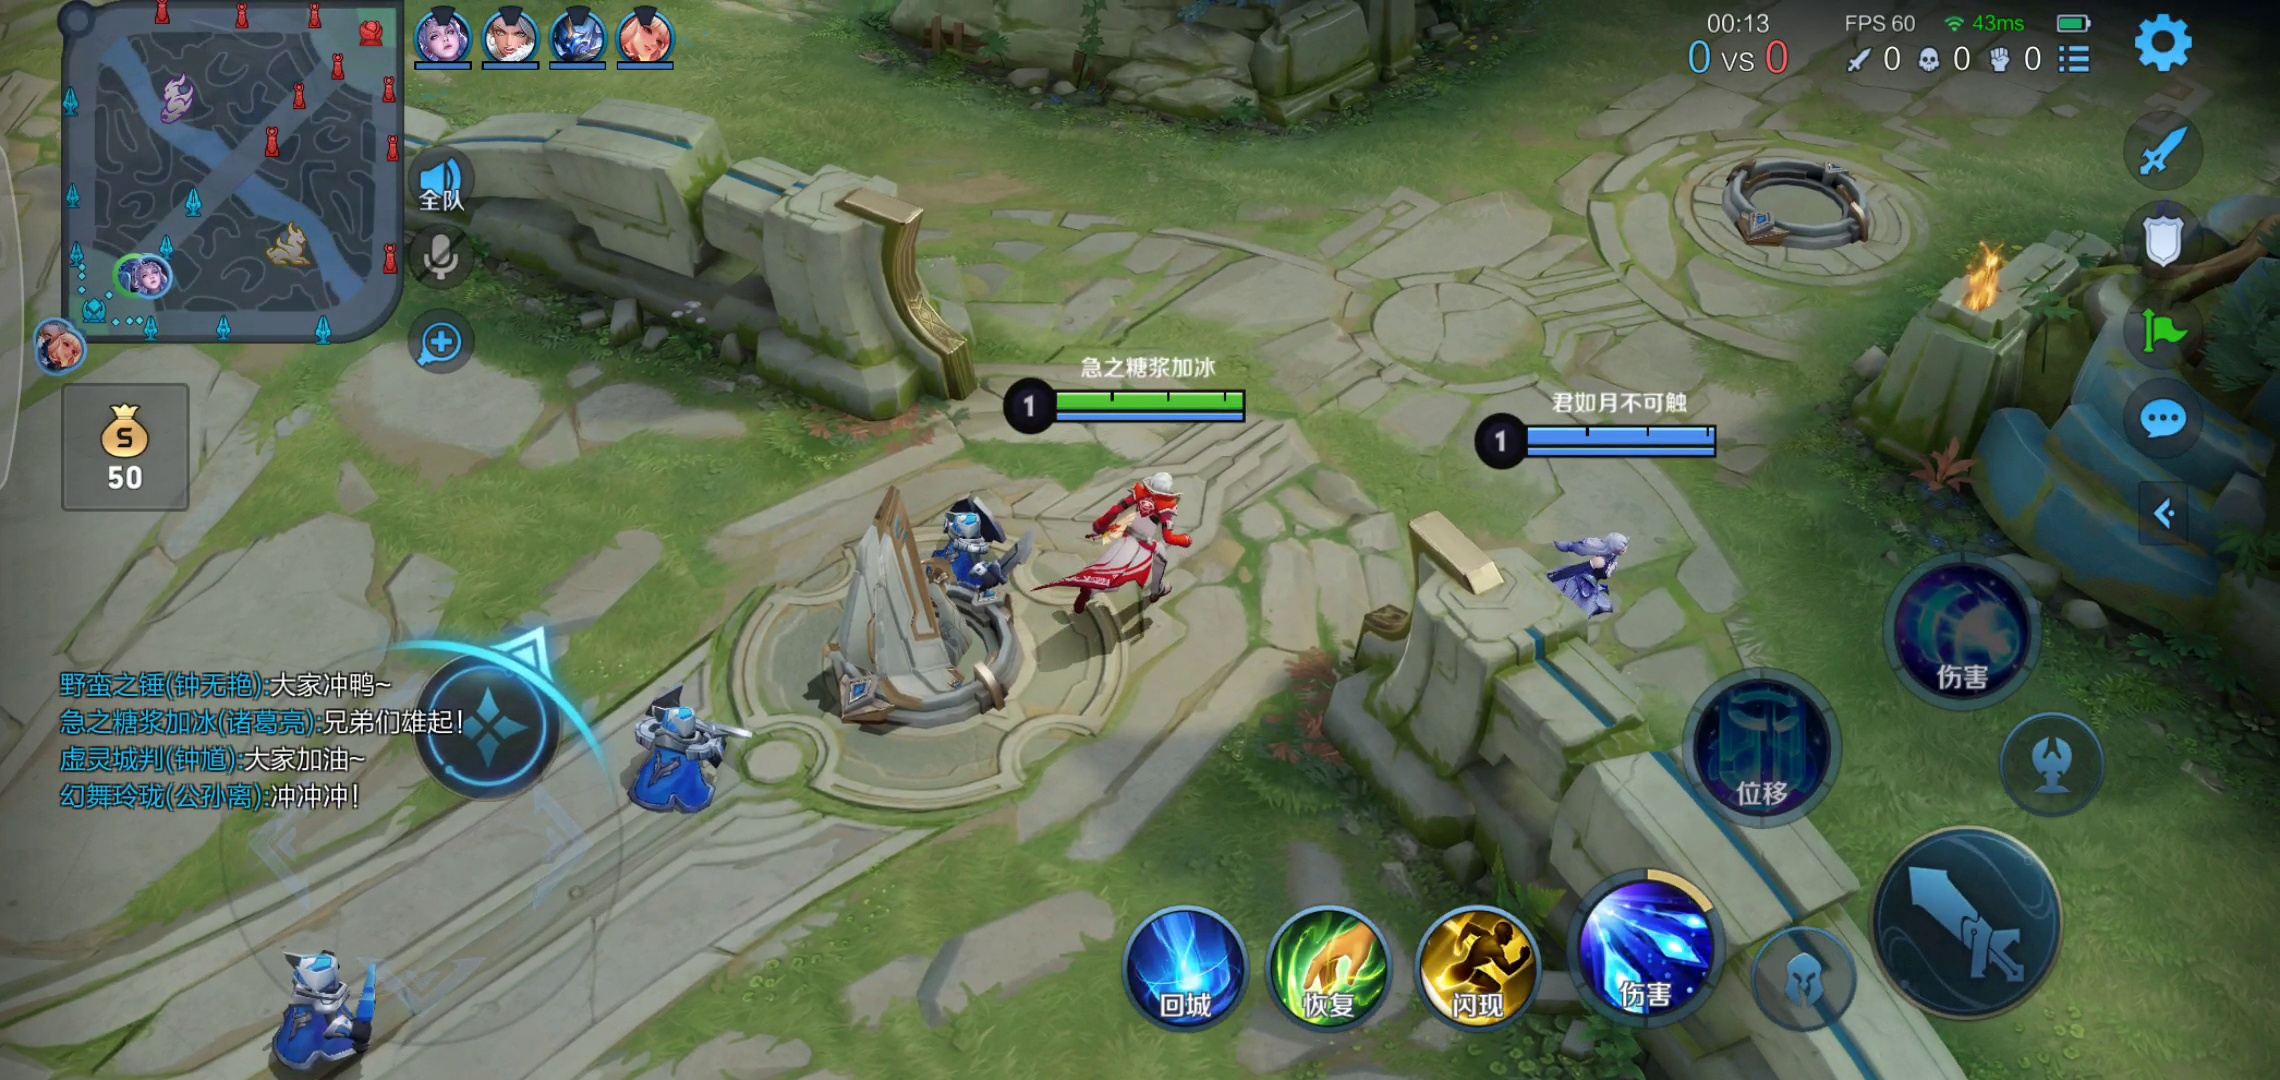hero: (1076, 470, 1200, 632), (1520, 510, 1650, 645)
soldier: (252, 930, 412, 1080), (598, 690, 760, 833), (918, 488, 1027, 606)
tower: (769, 499, 1034, 733), (1709, 135, 1905, 278)
